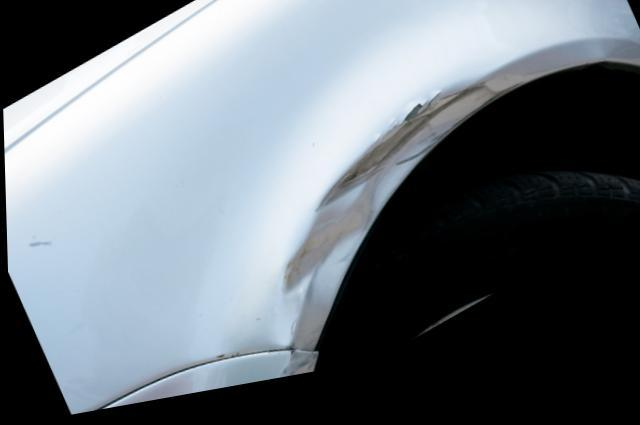dent: (271, 96, 500, 358)
scratch: (274, 363, 315, 388)
